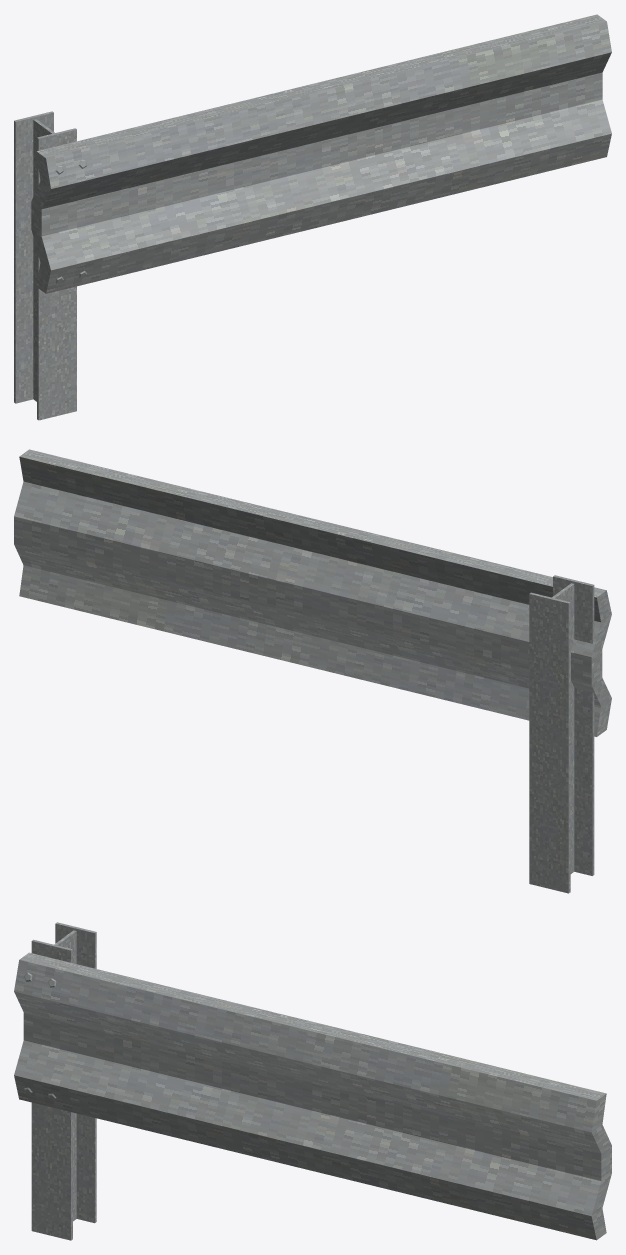
The model's file is Classic64_GuardRail_Model.fbx.
3 views of the same model, one above another, from view 1: azimuth 30°, elevation 25°; view 2: azimuth 150°, elevation 25°; view 3: azimuth 330°, elevation 25° (orthographic). The views are drawn at different scales.
Parts seen in each view (by area): view 1: Classic64_GuardRail_Part000; view 2: Classic64_GuardRail_Part000; view 3: Classic64_GuardRail_Part000.
Boxes of the visible parts, x1,y1,x2,y2 form: Classic64_GuardRail_Part000: (14, 14, 611, 420); Classic64_GuardRail_Part000: (14, 449, 611, 893); Classic64_GuardRail_Part000: (14, 922, 611, 1240).
Size of the model in its own units: 2.08 by 1 by 0.2542.
